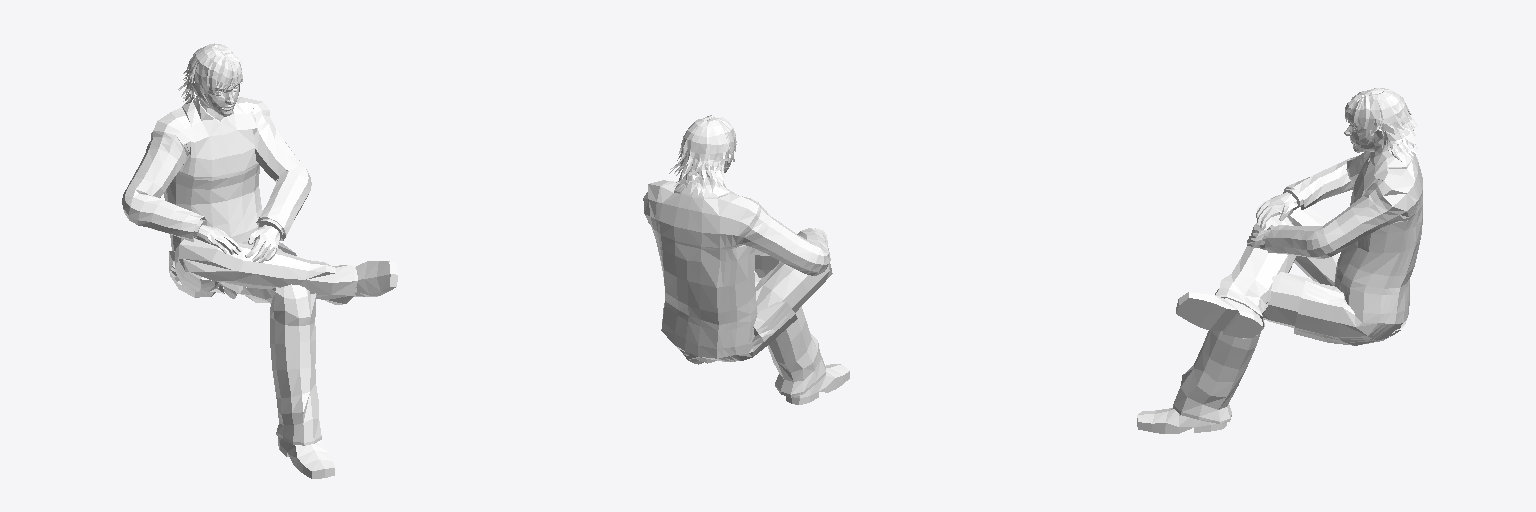
The model's file is sitMale01.obj.
The picture shows the model from 3 angles: view 1: azimuth 30°, elevation 25°; view 2: azimuth 150°, elevation 25°; view 3: azimuth 270°, elevation 25°; orthographic projection.
Visible parts, largest first — view 1: body_1, body_3491_2, body_4423_3; view 2: body_1, body_3491_2; view 3: body_1, body_3491_2, body_4423_3.
Part boxes in pixels (left/top/right/bottom): body_1: left=122, top=95, right=397, bottom=478; body_3491_2: left=178, top=43, right=242, bottom=103; body_4423_3: left=191, top=75, right=240, bottom=121; body_1: left=643, top=180, right=849, bottom=404; body_3491_2: left=669, top=115, right=736, bottom=195; body_1: left=1137, top=150, right=1422, bottom=433; body_3491_2: left=1345, top=88, right=1419, bottom=161; body_4423_3: left=1344, top=116, right=1387, bottom=159.
Bounding box in the file's own units: 76.6 × 132 × 101.